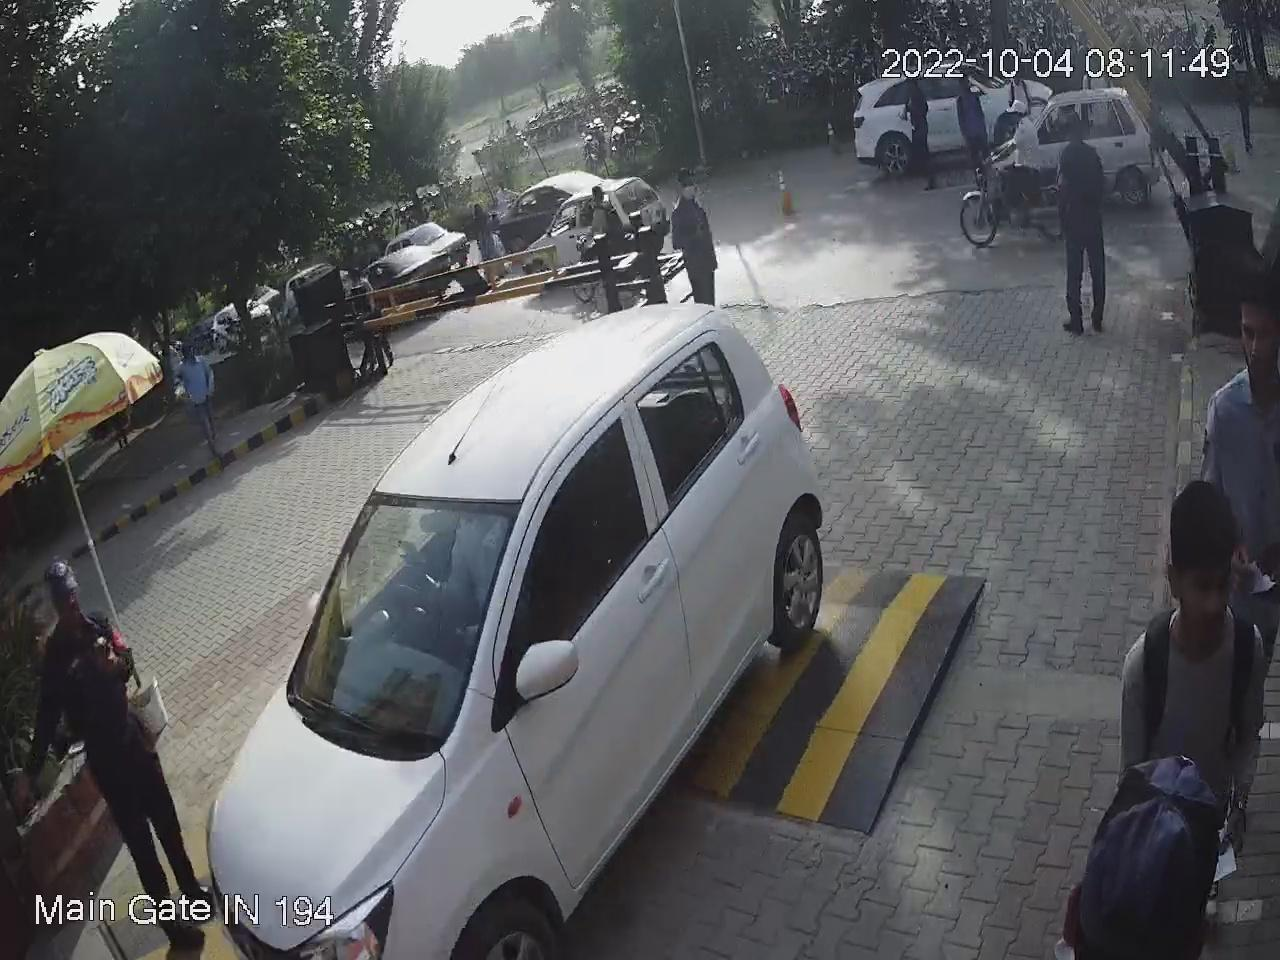windshield: (273, 490, 528, 770)
